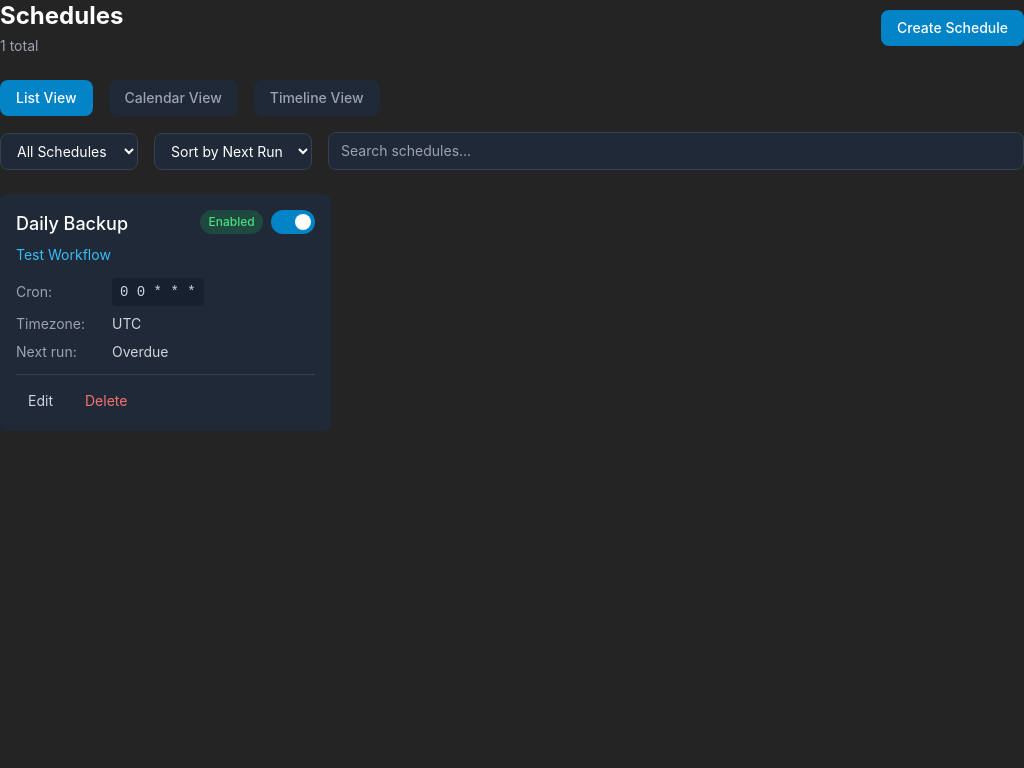
Test case: Schedules Page › Delete confirmation › should close modal when cancel clicked
This screenshot has width=1024, height=768.
Open modal
Click the button "Delete": (106, 401) [73,387,139,415]
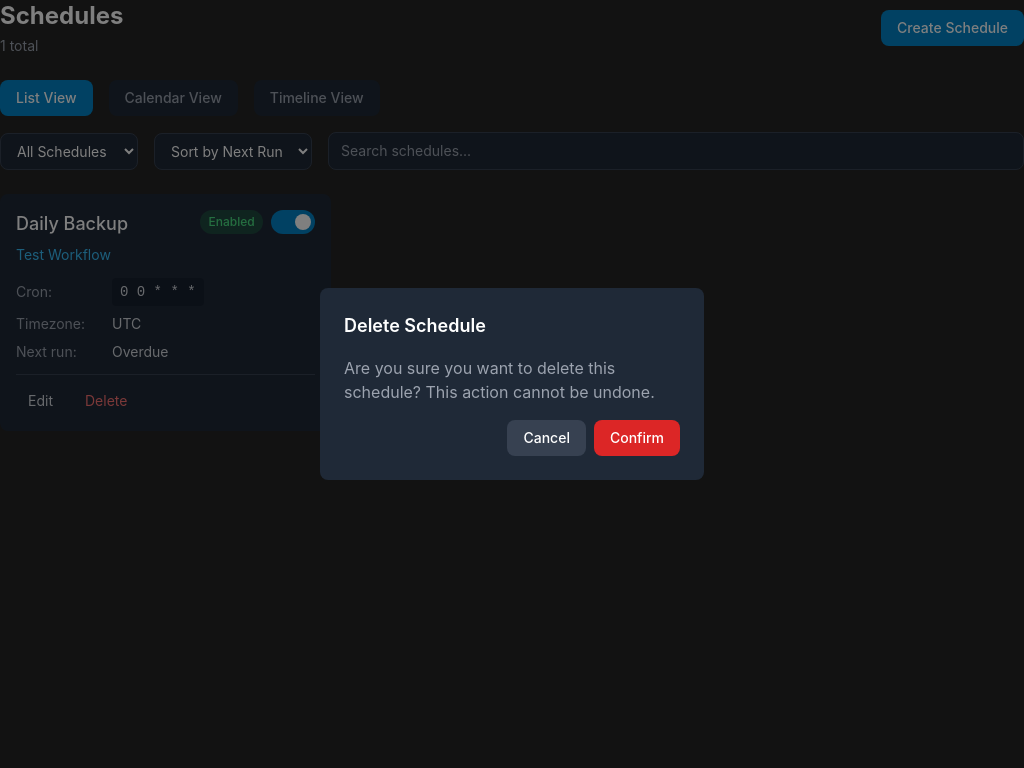
expect the heading "Delete Schedule" is shown: met, box [344,315,486,336]
Click cancel
Click the button "Cancel": (547, 438) [508,420,586,456]
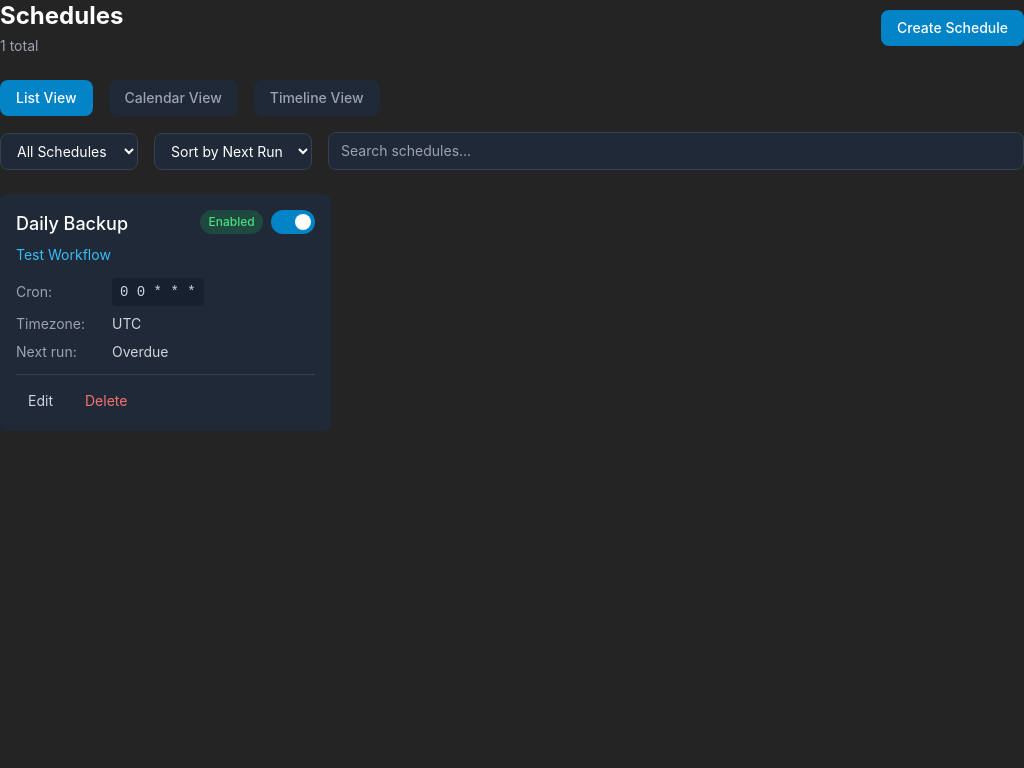
expect the heading "Delete Schedule" is gone: met
